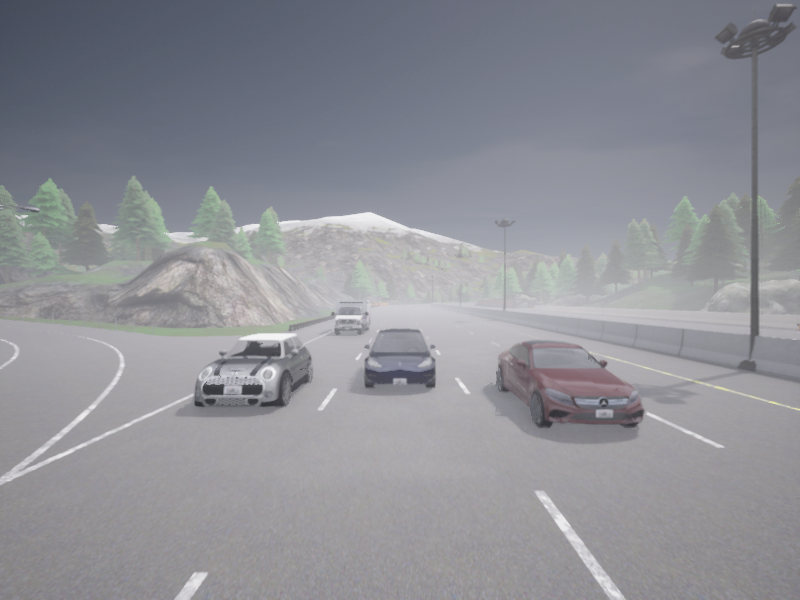vehicle: (496, 339, 643, 426), (194, 334, 312, 406), (364, 328, 435, 388), (331, 300, 370, 334)
